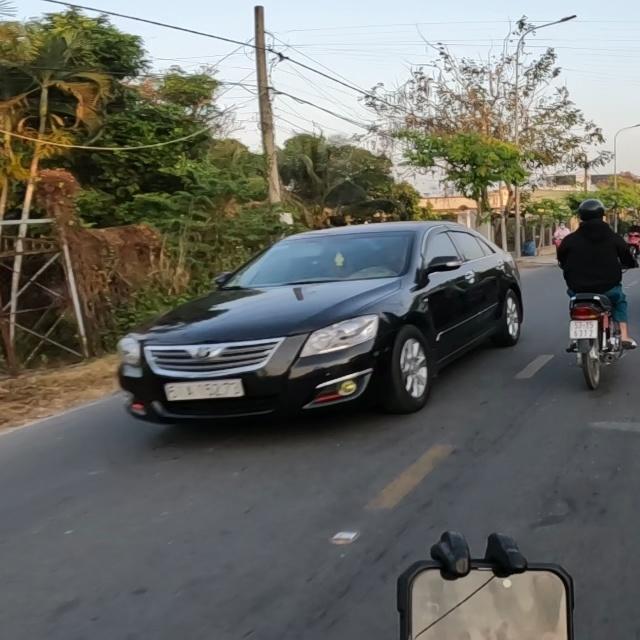license-plate: (163, 379, 246, 401), (568, 320, 600, 341)
